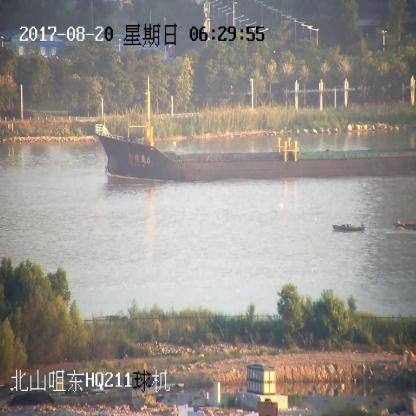Fishing Boat: (395, 216, 416, 232), (334, 222, 364, 233)
